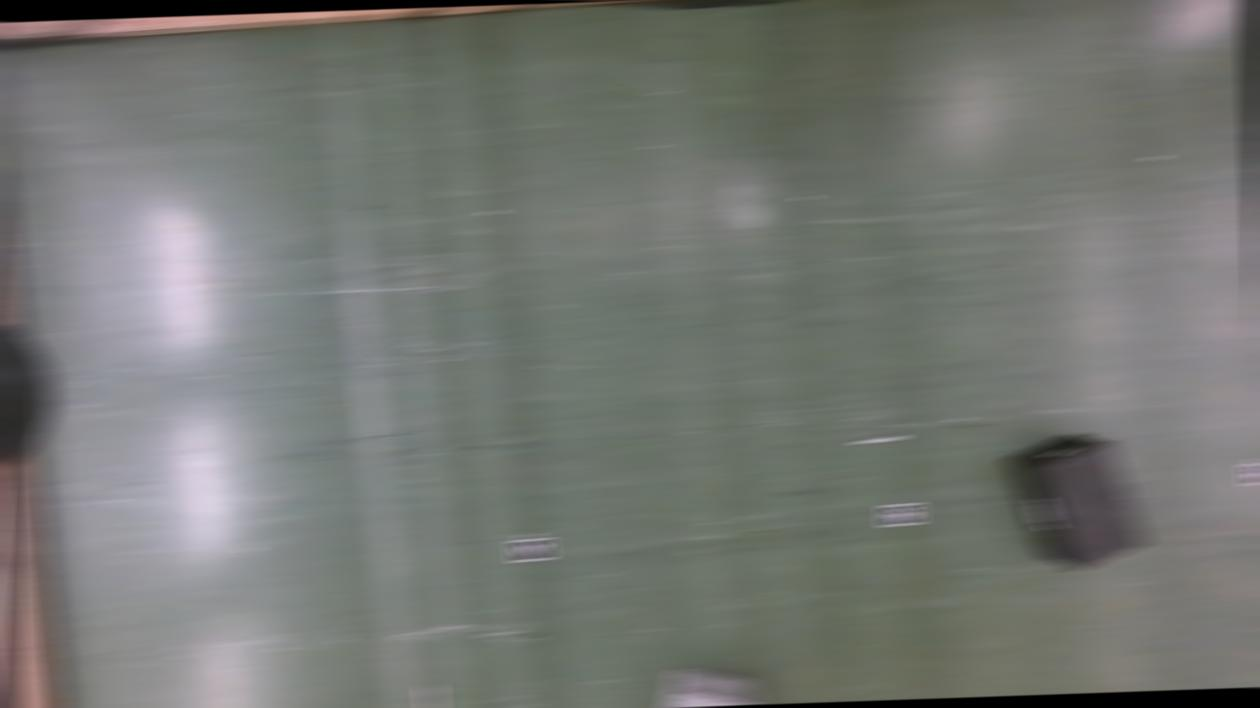probes: (851, 430, 907, 448)
rako: (1004, 428, 1148, 571)
